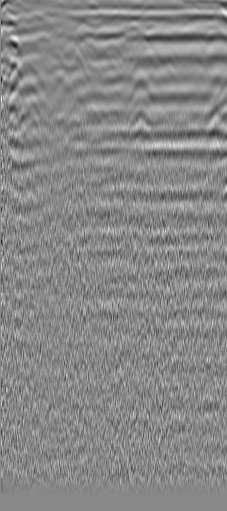가스: (202, 113, 227, 140)
오수: (12, 11, 32, 31)
우수: (165, 14, 191, 40)
